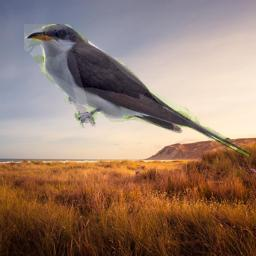Cuckoo: (24, 24, 249, 160)
